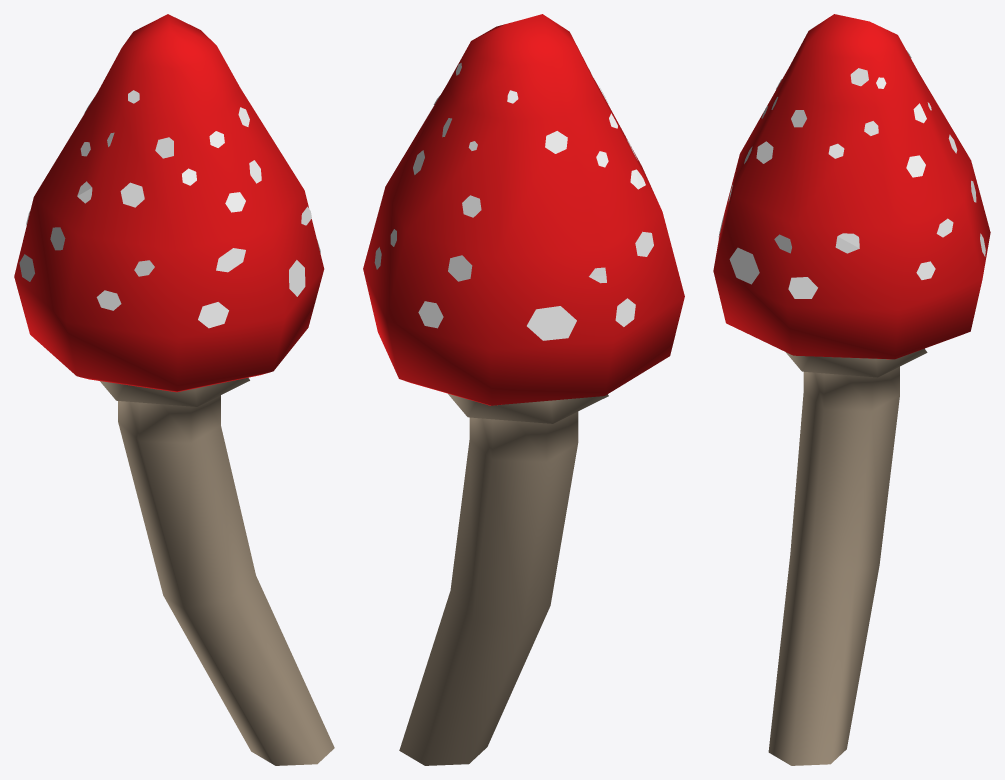
File: Toadstool-C.fbx
3 renders of one model, left to right at view 1: azimuth 30°, elevation 25°; view 2: azimuth 150°, elevation 25°; view 3: azimuth 270°, elevation 25°, orthographic. The views are drawn at different scales.
Parts seen in each view (by area): view 1: Toadstool-C-LOD0; view 2: Toadstool-C-LOD0; view 3: Toadstool-C-LOD0.
Part boxes in pixels (left/top/right/bottom): Toadstool-C-LOD0: left=14, top=14, right=334, bottom=765; Toadstool-C-LOD0: left=363, top=14, right=684, bottom=765; Toadstool-C-LOD0: left=713, top=14, right=990, bottom=765.
Size of what is drawn, in the model's own units: 5.31 by 14.24 by 5.21.
